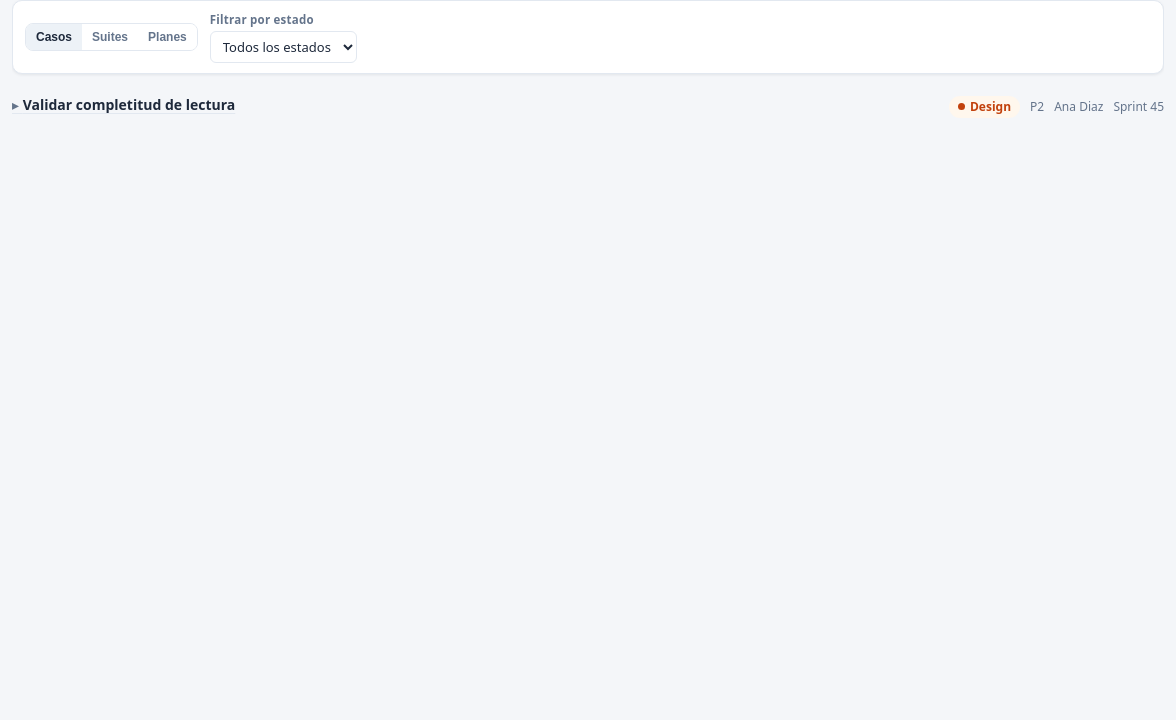
Test: ListaActivos › no hace nada hasta que se despliega el formulario de una fila
Expected: the field labelled "Notas QA" is not shown
Step 1. Click the button "Validar completitud de lectura" → (129, 105), box [12,94,939,115]
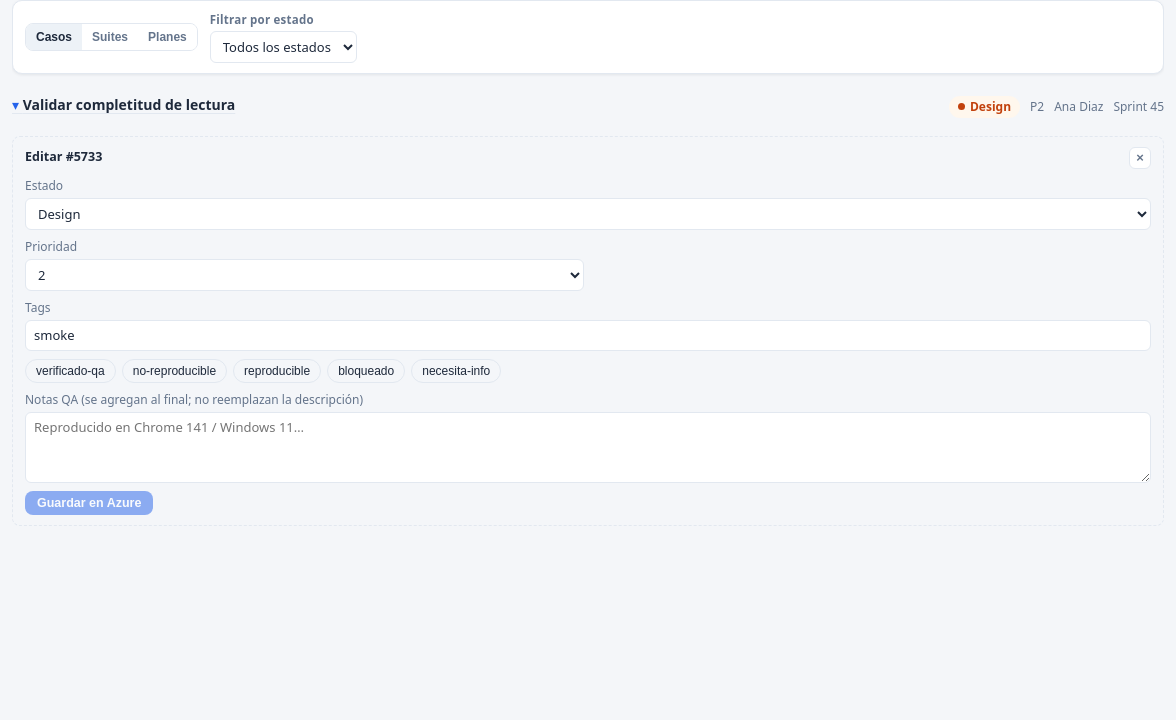
Expected: the text box labelled "Notas QA (se agregan al final; no reemplazan la descripción)" is shown, [25,412,1151,483]
